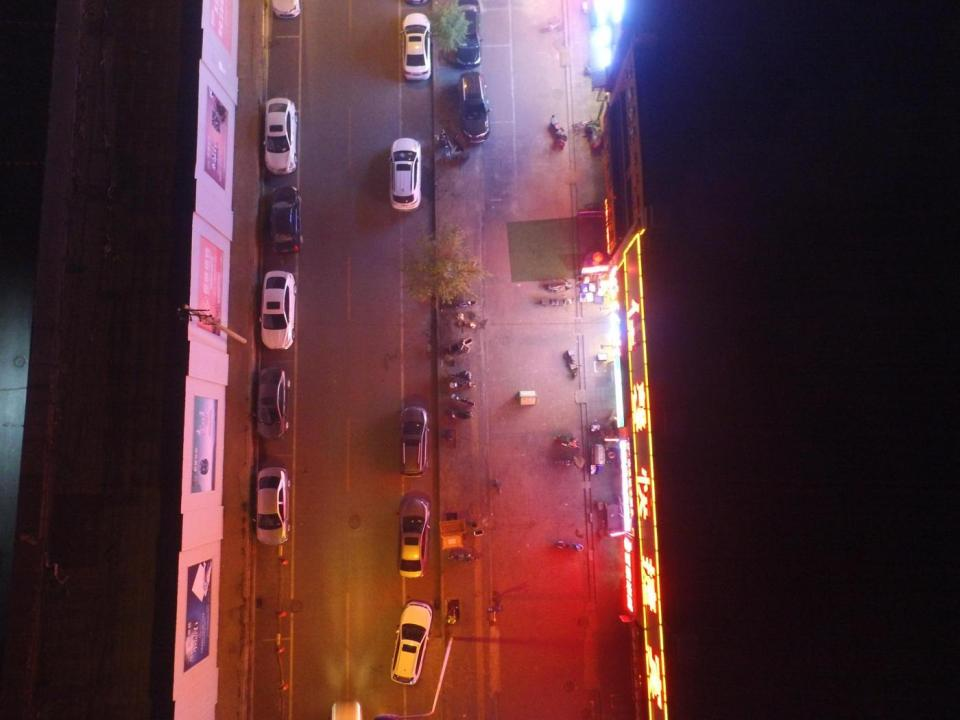car: (252, 466, 292, 545), (259, 270, 296, 351), (262, 98, 298, 174), (253, 367, 291, 439), (398, 499, 430, 578), (388, 138, 421, 210), (268, 186, 302, 253), (400, 12, 431, 80), (454, 0, 483, 69)
van: (391, 602, 432, 685), (457, 70, 491, 142), (399, 405, 429, 478)
